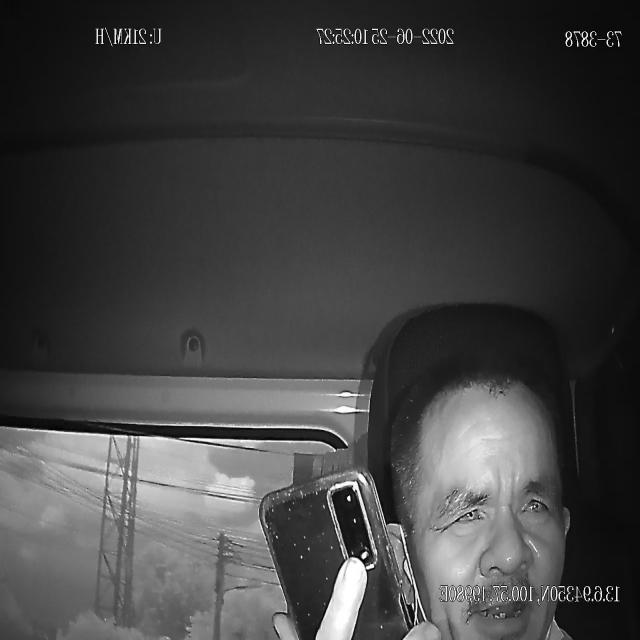phone: (259, 469, 409, 640)
